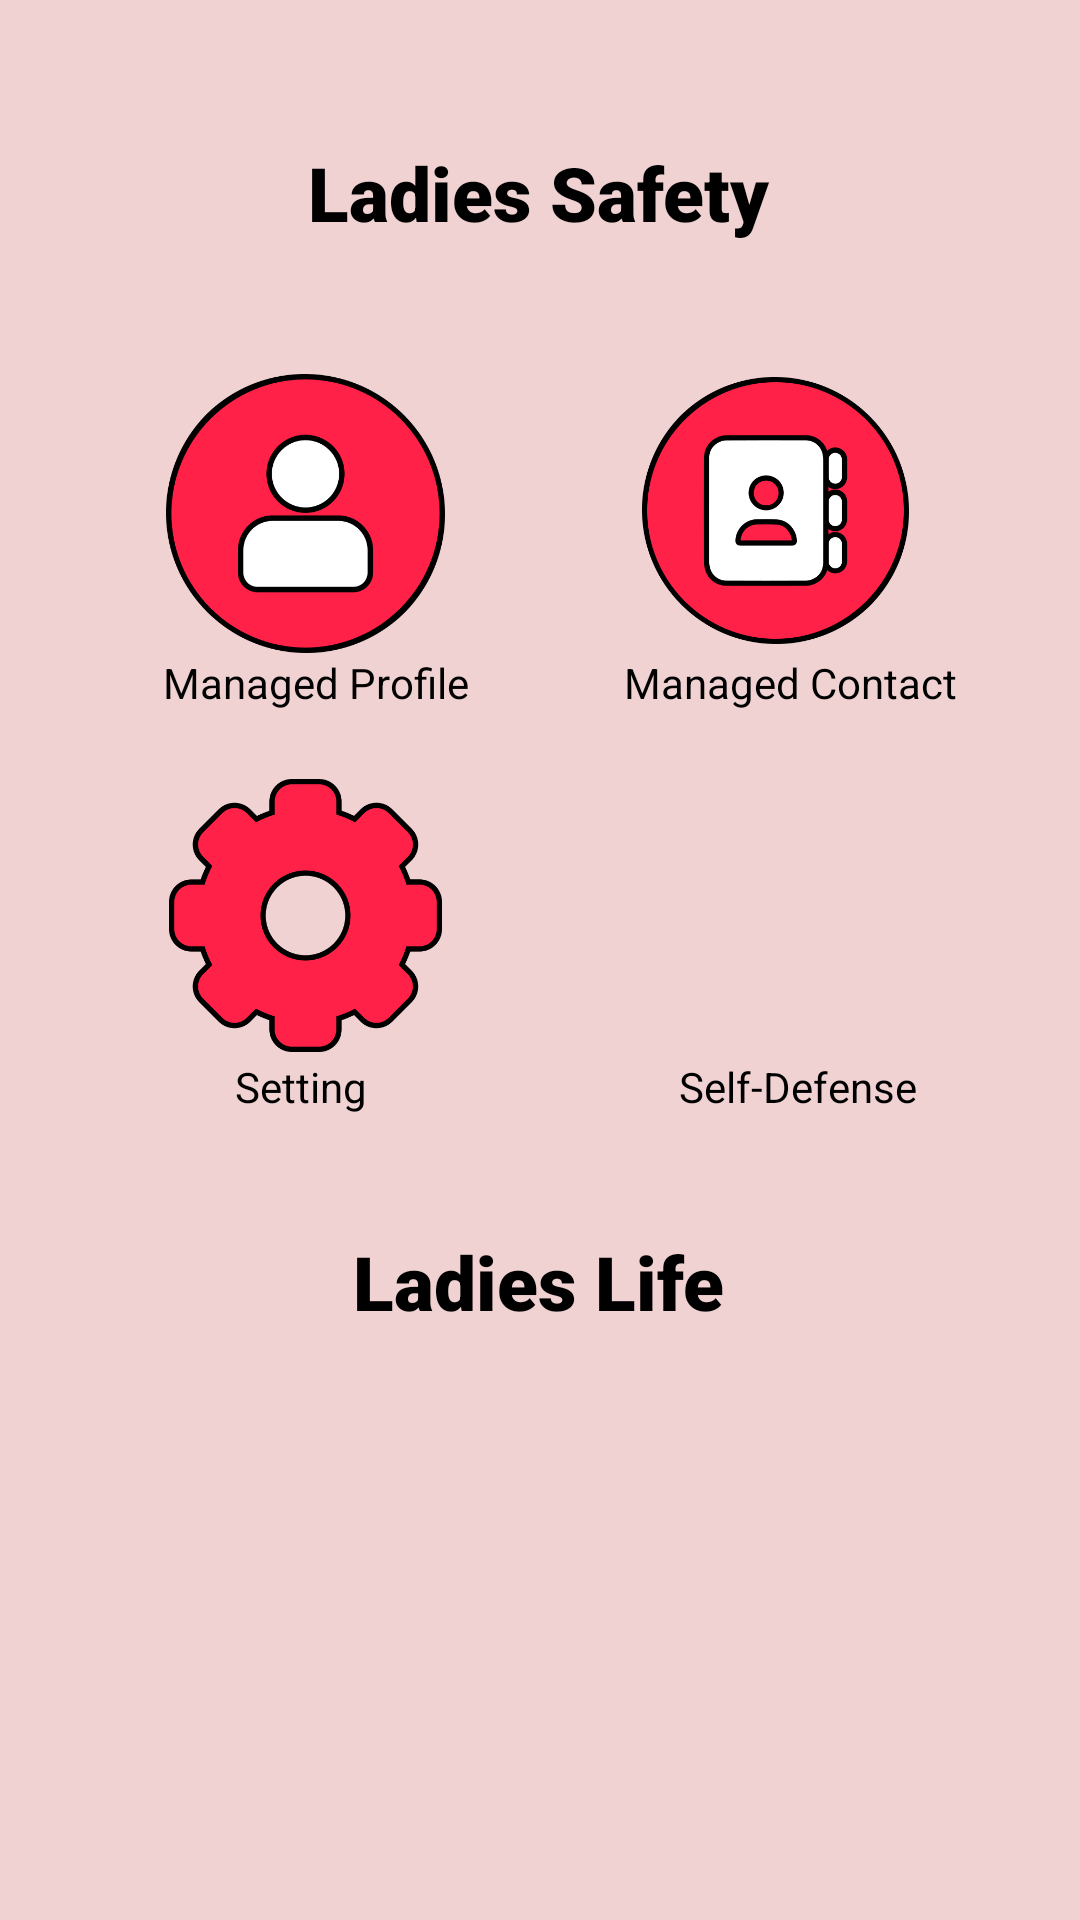

Where icons sit on this 1080 x 1920 app screen, as [x1=x1, y1=y1, x2=x2, y2=y2]:
user: [x1=166, y1=374, x2=445, y2=653]
